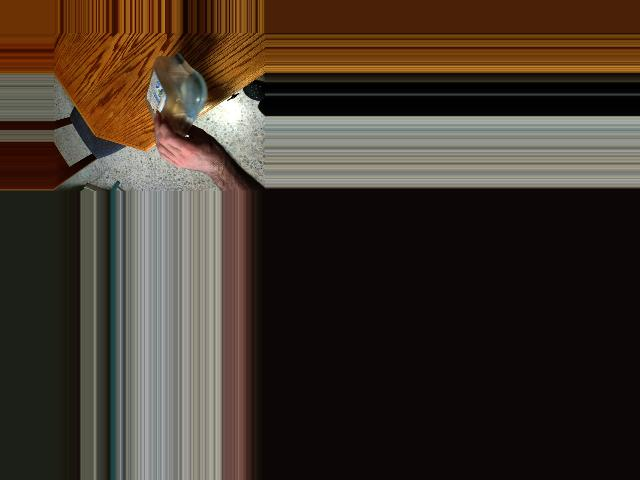cheese: (148, 58, 199, 149)
